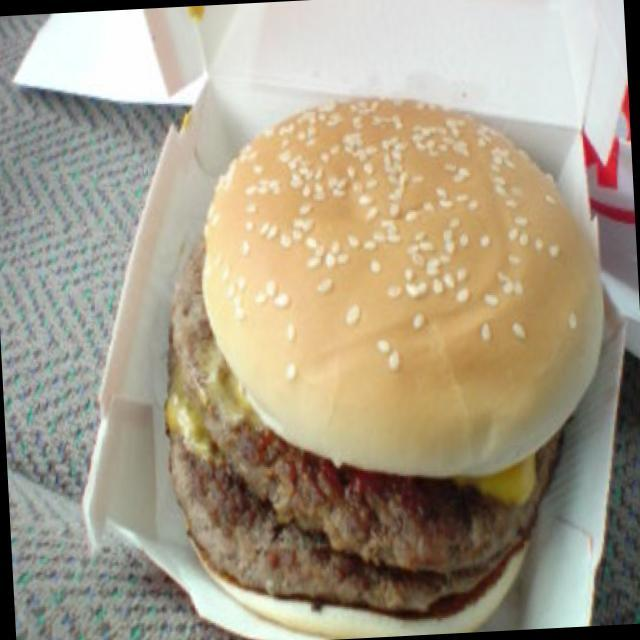Hamburger: (166, 87, 621, 640)
